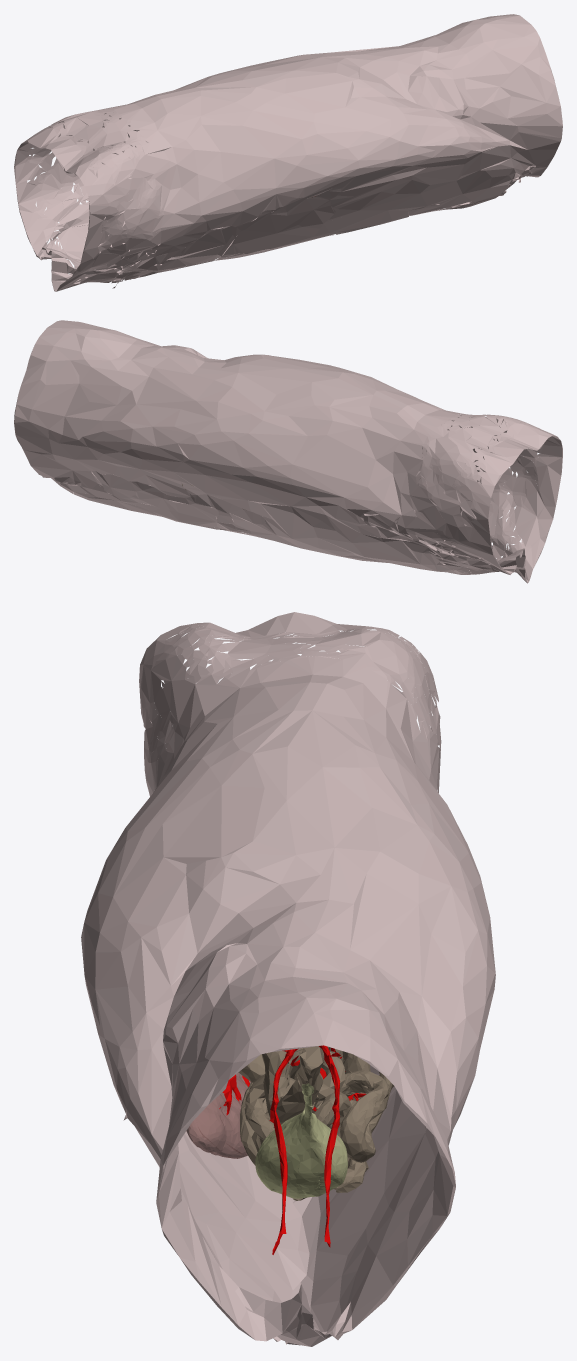
Rendered from chat.glb.
3 renders of one model, top to bottom at view 1: azimuth 30°, elevation 25°; view 2: azimuth 150°, elevation 25°; view 3: azimuth 270°, elevation 25°, orthographic. The views are drawn at different scales.
Visible parts, largest first — view 1: Object_8, Object_7, Object_9, Object_6, Object_5; view 2: Object_8, Object_9, Object_5, Object_6; view 3: Object_8, Object_4, Object_36, Object_37, Object_9, Object_35, Object_45, Object_15.
Boxes of the visible parts, x1,y1,x2,y2 form: Object_8: [14, 14, 562, 291]; Object_7: [214, 186, 341, 260]; Object_9: [25, 110, 163, 283]; Object_6: [169, 226, 236, 269]; Object_5: [208, 204, 444, 261]; Object_8: [14, 320, 562, 583]; Object_9: [415, 413, 544, 574]; Object_5: [91, 471, 265, 534]; Object_6: [73, 492, 161, 516]; Object_8: [81, 612, 495, 1346]; Object_4: [255, 1083, 347, 1198]; Object_36: [268, 1050, 393, 1192]; Object_37: [238, 1046, 388, 1192]; Object_9: [140, 626, 440, 791]; Object_35: [240, 1047, 389, 1165]; Object_45: [186, 1072, 250, 1158]; Object_15: [269, 1045, 340, 1254].
Bounding box in the file's own units: 386 × 141 × 147.
